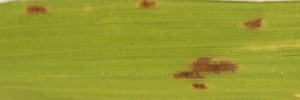RiceBrownSpot: (168, 55, 246, 91), (242, 15, 270, 35), (21, 2, 52, 19), (131, 1, 170, 13)
